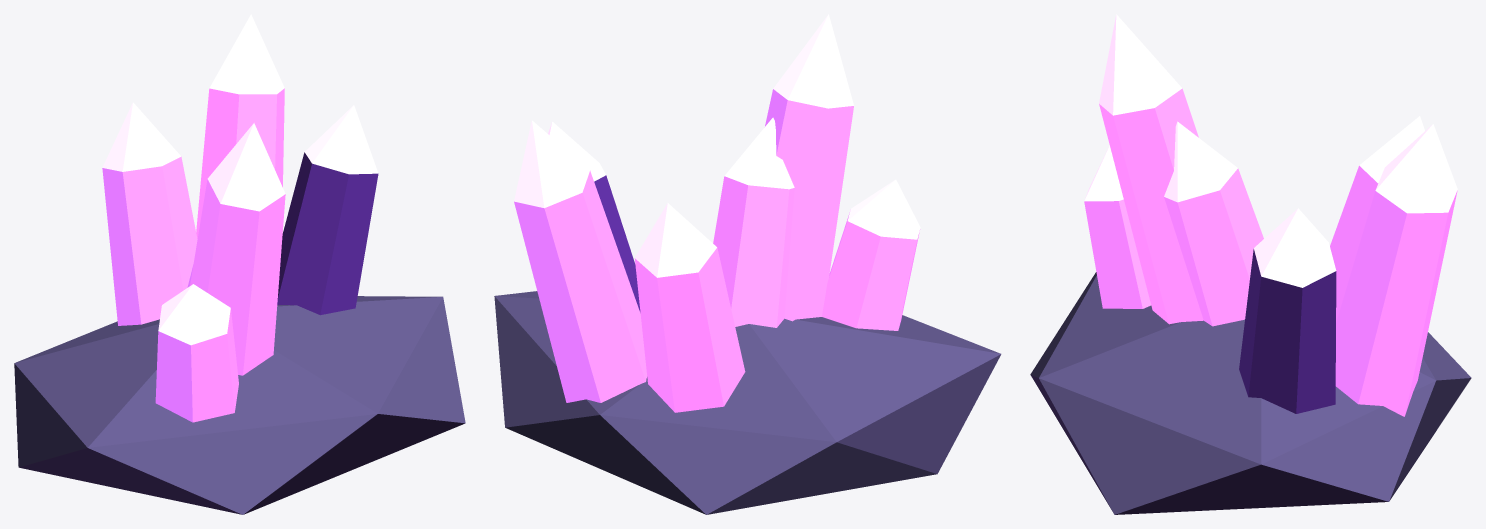
File: Energy_Crystal_Cluster_A.glb
3 renders of one model, left to right at view 1: azimuth 30°, elevation 25°; view 2: azimuth 150°, elevation 25°; view 3: azimuth 270°, elevation 25°, orthographic. The views are drawn at different scales.
Visible parts, largest first — view 1: Energy_Crystal_Cluster_A; view 2: Energy_Crystal_Cluster_A; view 3: Energy_Crystal_Cluster_A.
Boxes of the visible parts, left/top/right/bottom form: Energy_Crystal_Cluster_A: left=14, top=14, right=465, bottom=514; Energy_Crystal_Cluster_A: left=494, top=14, right=1001, bottom=514; Energy_Crystal_Cluster_A: left=1030, top=14, right=1471, bottom=514.
Bounding box in the file's own units: 2.09 × 1.66 × 1.71.
Materials: 1 (1 with a texture image).
